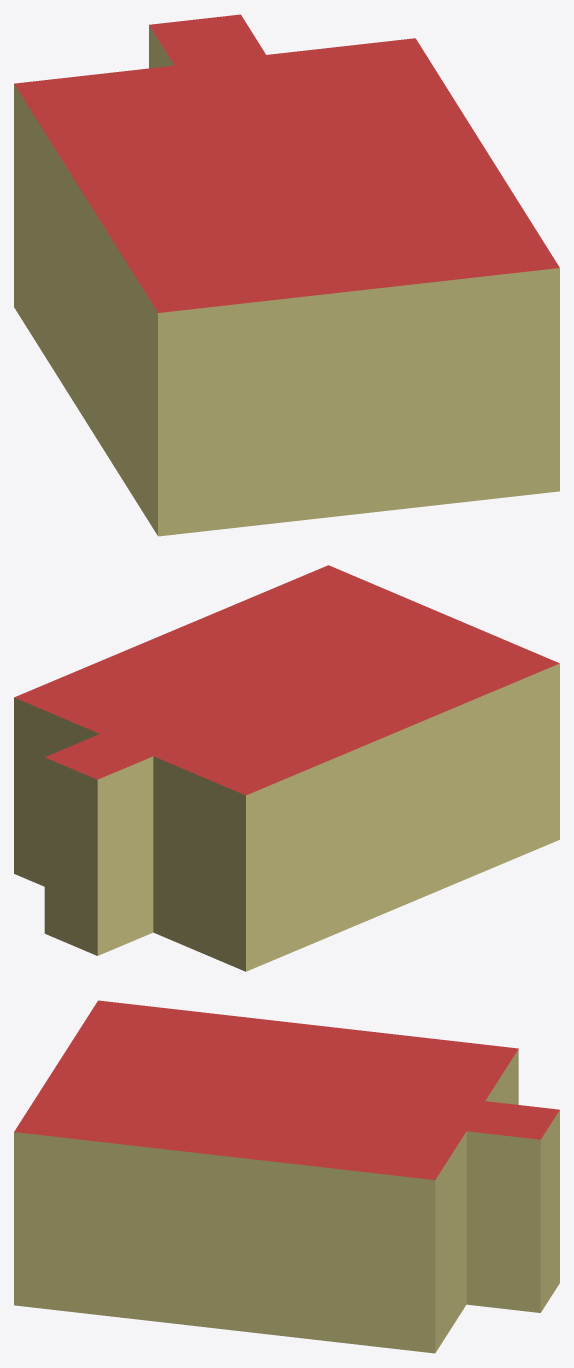
3 renders of one model, top to bottom at view 1: azimuth 30°, elevation 25°; view 2: azimuth 150°, elevation 25°; view 3: azimuth 270°, elevation 25°, orthographic. The views are drawn at different scales.
Bounding box in the file's own units: 25.2 × 32.35 × 11.33.
